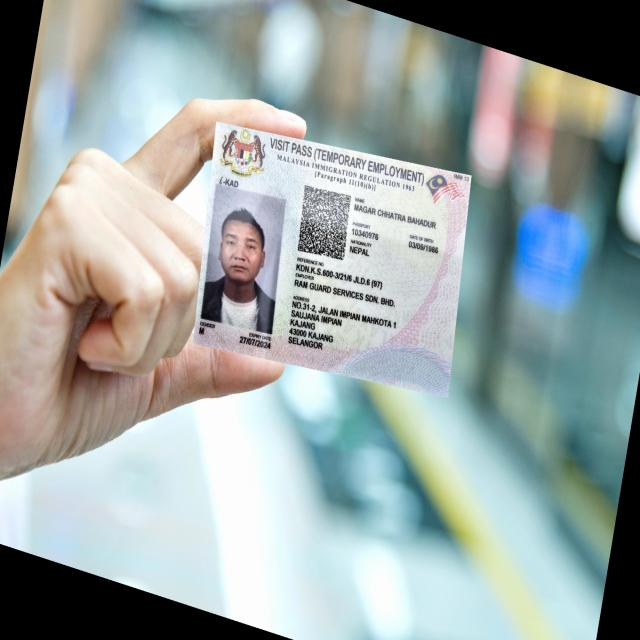ikad-temp: (192, 120, 472, 398)
